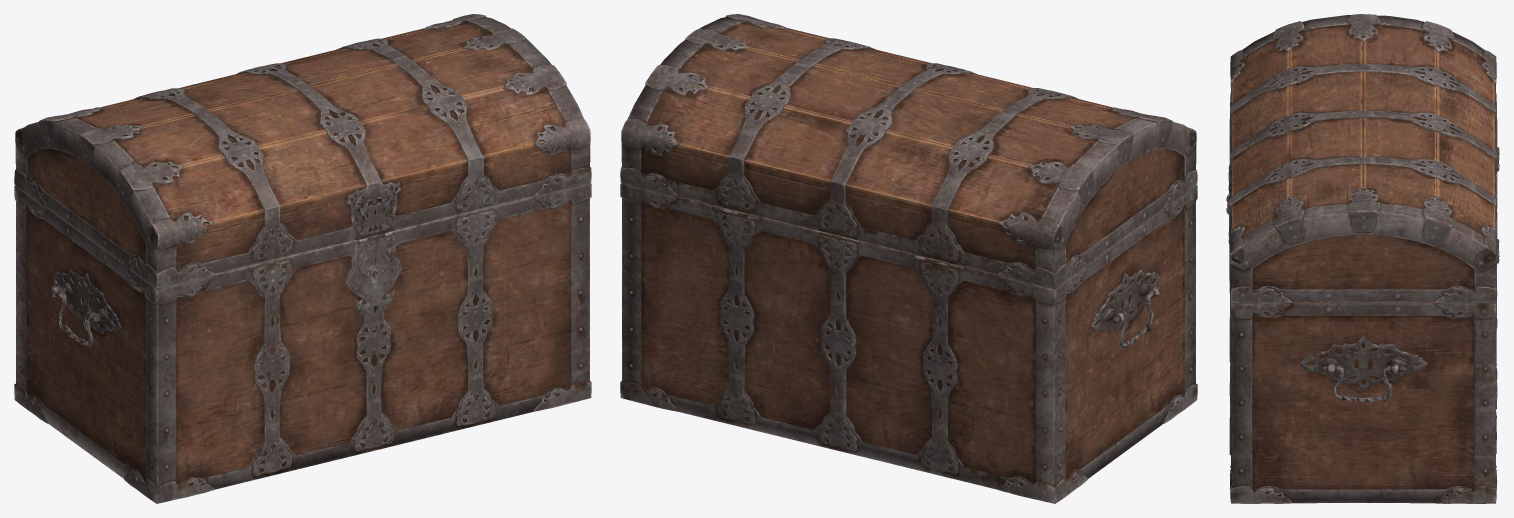
Rendered from c_chest.glb.
The picture shows the model from 3 angles, left to right: view 1: azimuth 30°, elevation 25°; view 2: azimuth 150°, elevation 25°; view 3: azimuth 270°, elevation 25°; orthographic projection. The views are drawn at different scales.
Parts seen in each view (by area): view 1: c_chest; view 2: c_chest; view 3: c_chest.
Boxes of the visible parts, box(x1,y1,x2,y2) form: c_chest: box(14, 14, 591, 503); c_chest: box(620, 14, 1197, 503); c_chest: box(1226, 14, 1499, 503).
Bounding box in the file's own units: 0.9598 × 0.6193 × 0.5229.
1 material, 1 textured.
